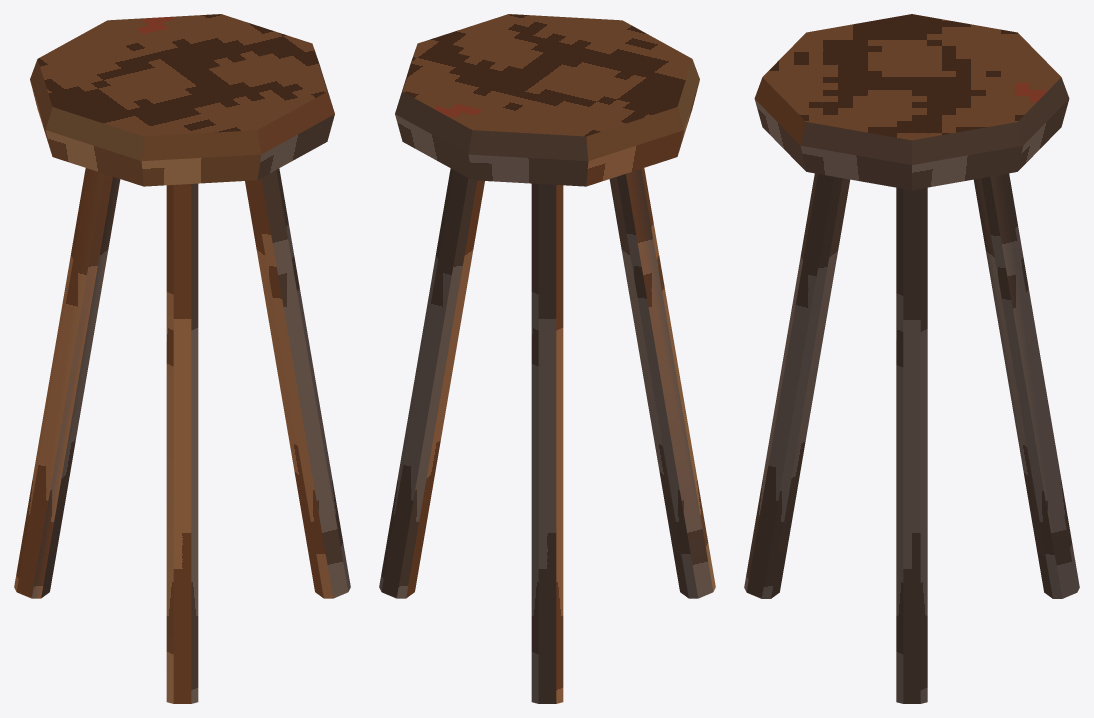
Rendered from wprop.chair__stool.glb.
3 renders of one model, left to right at view 1: azimuth 30°, elevation 25°; view 2: azimuth 150°, elevation 25°; view 3: azimuth 270°, elevation 25°, orthographic.
Visible parts, largest first — view 1: kit_legs, kit_seat; view 2: kit_legs, kit_seat; view 3: kit_legs, kit_seat.
Boxes of the visible parts, <box> form: kit_legs: <box>14,168,350,703</box>; kit_seat: <box>30,14,334,186</box>; kit_legs: <box>379,168,715,703</box>; kit_seat: <box>395,14,699,186</box>; kit_legs: <box>744,173,1079,703</box>; kit_seat: <box>754,14,1069,190</box>.
Bounding box in the file's own units: 0.4397 × 0.7734 × 0.4264.
Materials: 2 (2 with a texture image).
